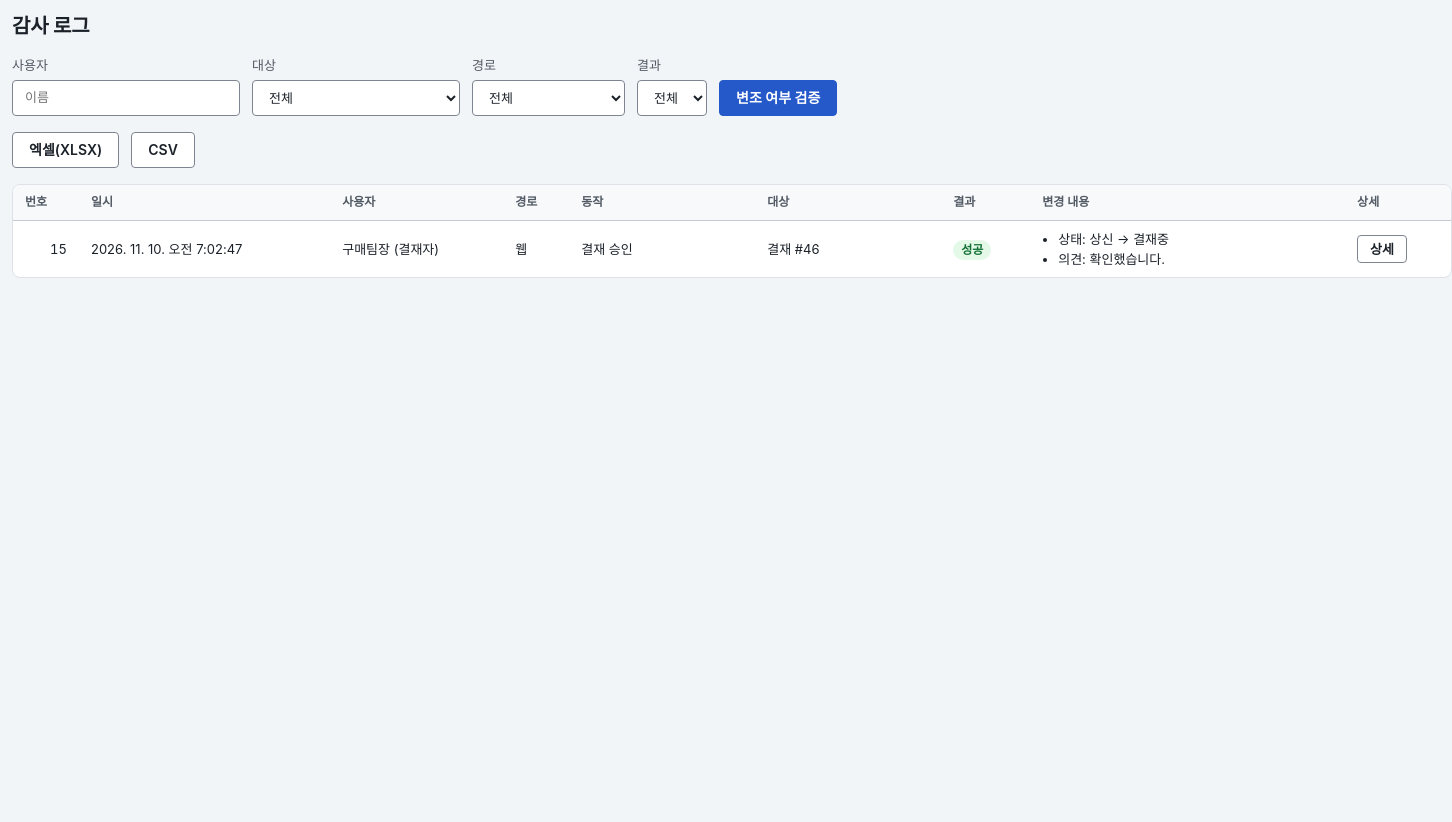
Test: 감사 로그 필터와 상세 › 행의 상세 버튼이 [항목, 이전, 이후] 표를 열고 닫는다
Click the button with aria-label "15번 기록 상세" at (1382, 249), box 1357,235 -> 1407,263
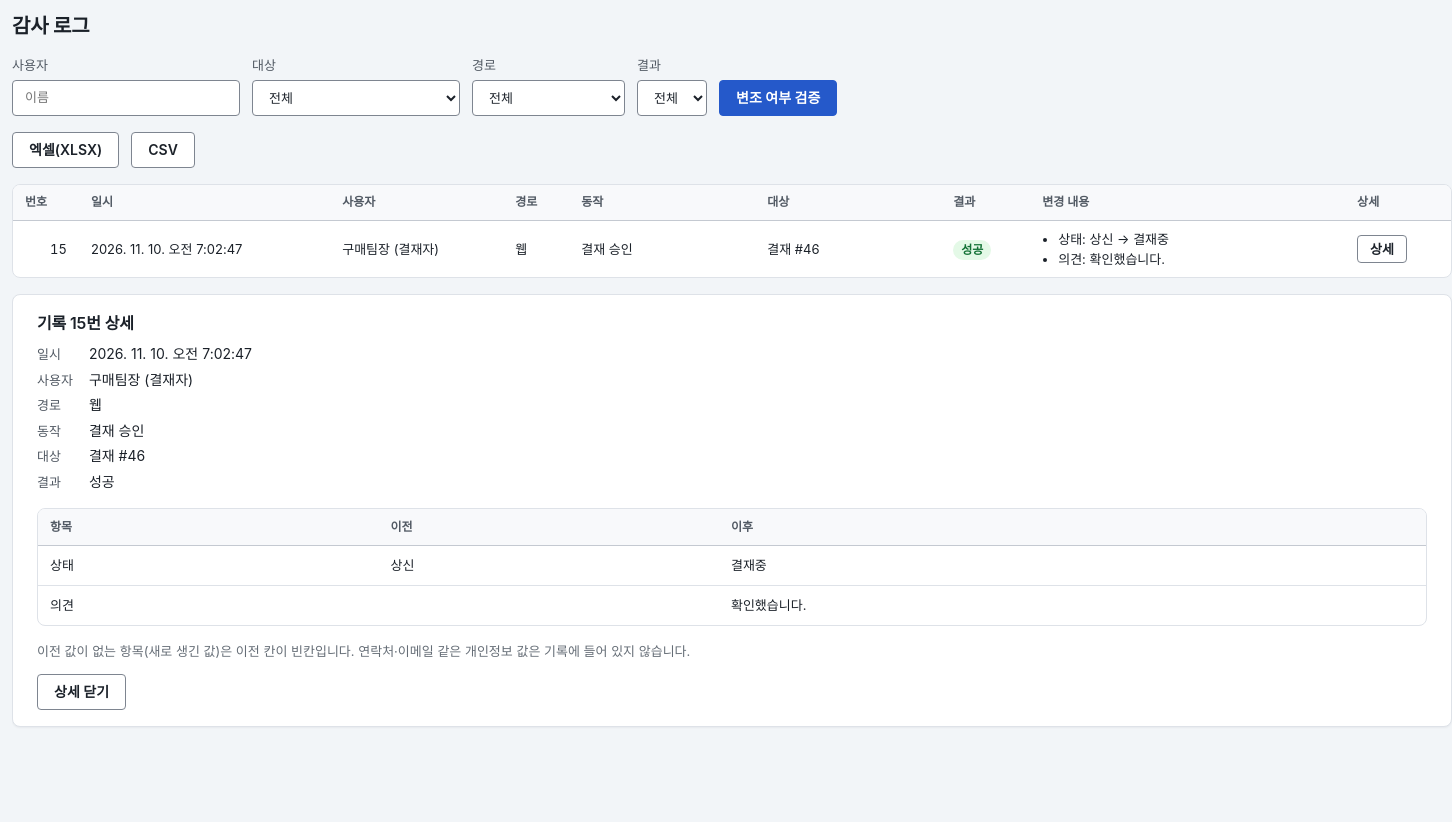
Expected: the element with test id "audit-detail" shows "기록 15번 상세", 12,294 -> 1451,726
Expected: the row "항목 이전 이후" is shown, 38,509 -> 1426,545
Expected: the row "상태 상신 결재중" is shown, 38,545 -> 1426,585
Click the button "상세 닫기" at (82, 692), box 37,674 -> 126,710
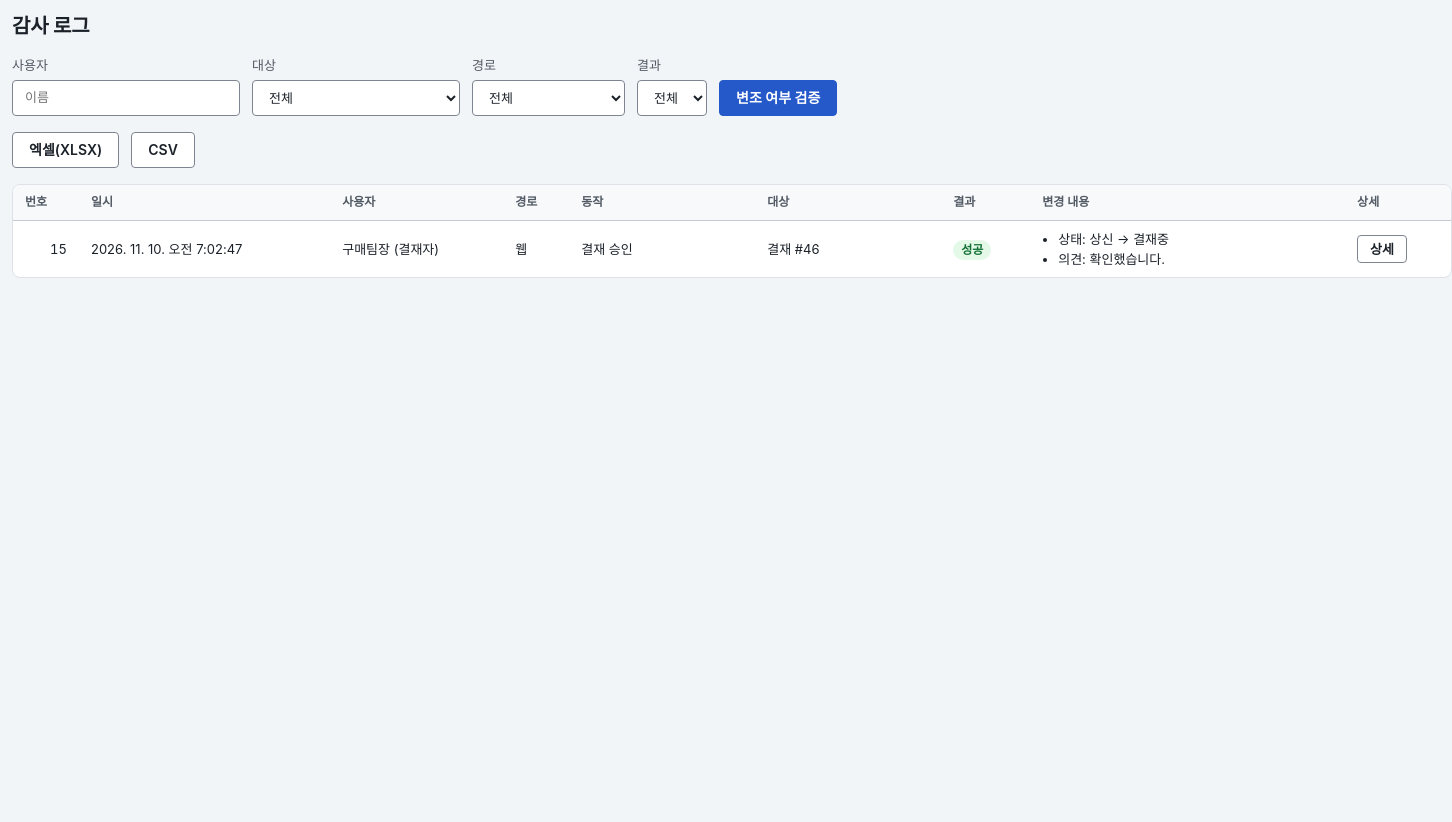
Expected: the element with test id "audit-detail" is gone
